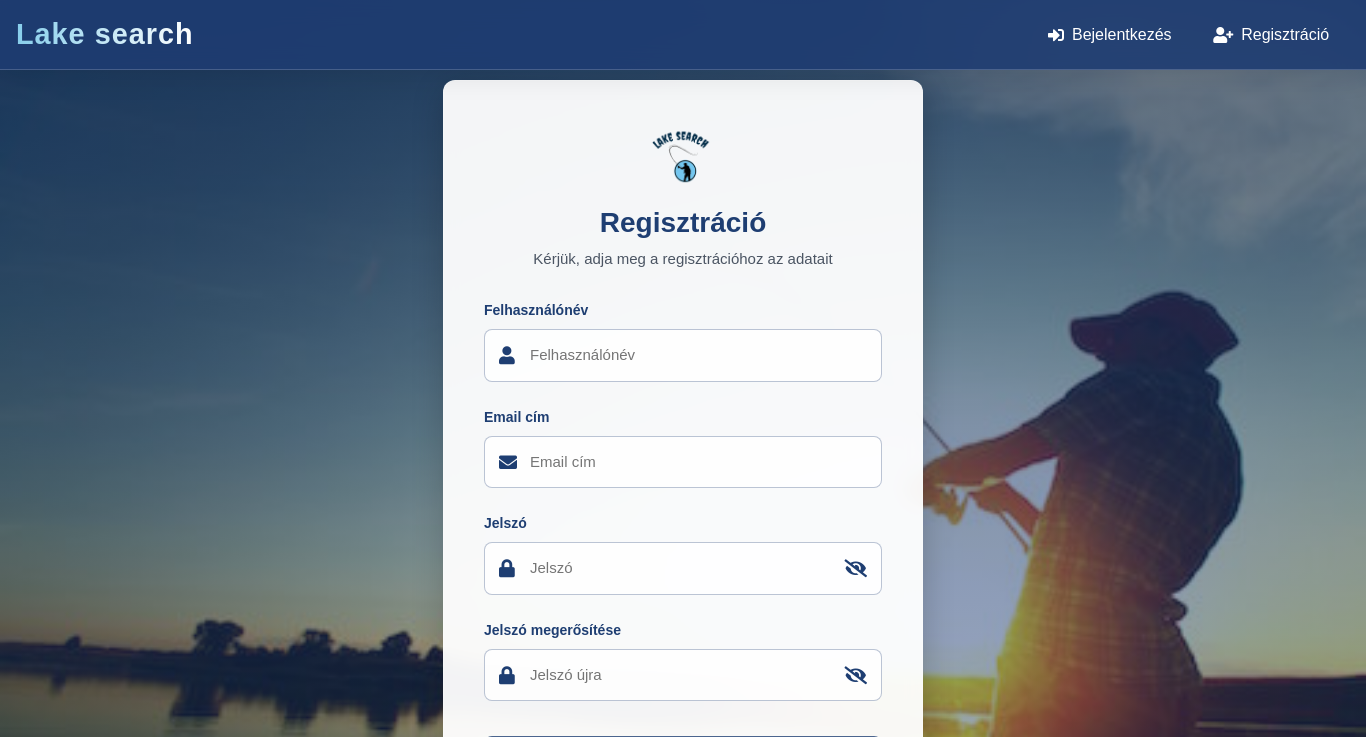
Test case: Regisztrációs űrlap teszt › Jelszó láthatóságának váltása működik
Type "Jelszo123" into the password field with placeholder "Jelszó" at (683, 569), box x1=484 y1=542 x2=882 y2=595
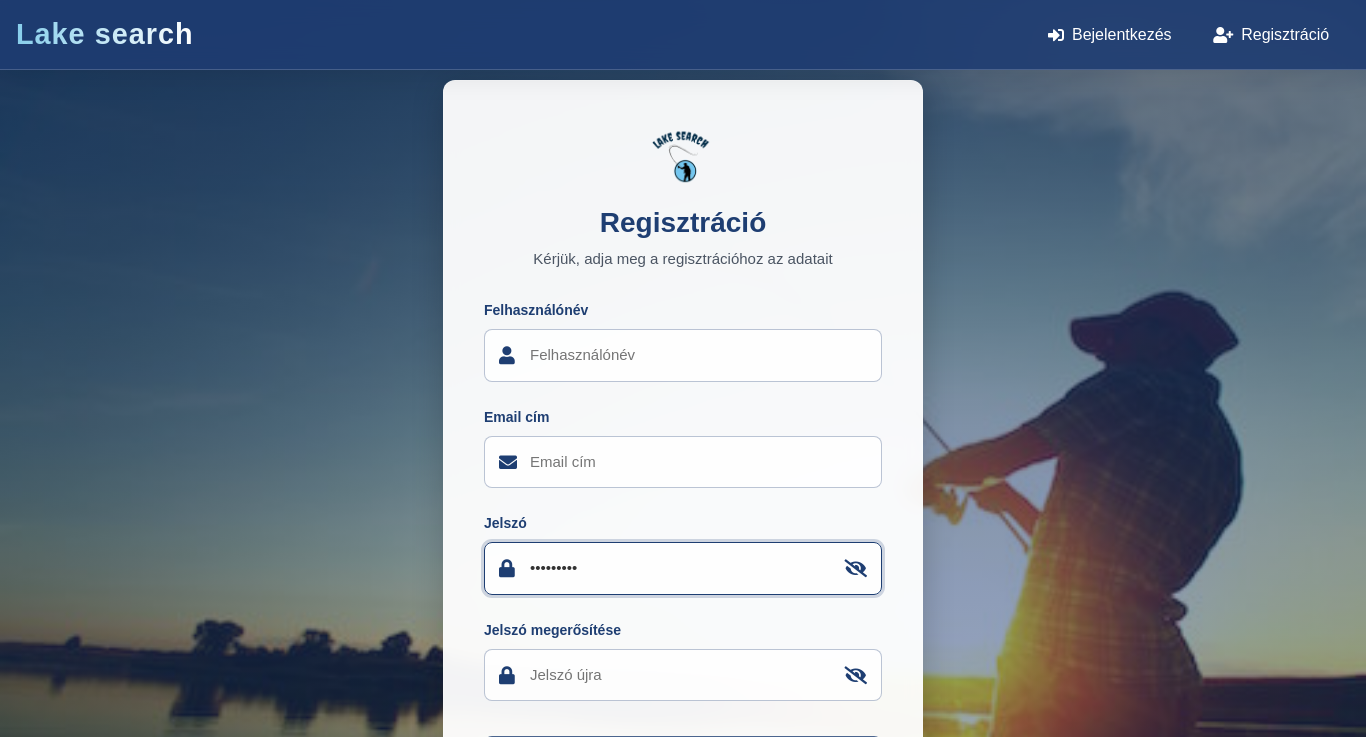
Click the 6th icon at (857, 568), box x1=845 y1=559 x2=868 y2=577
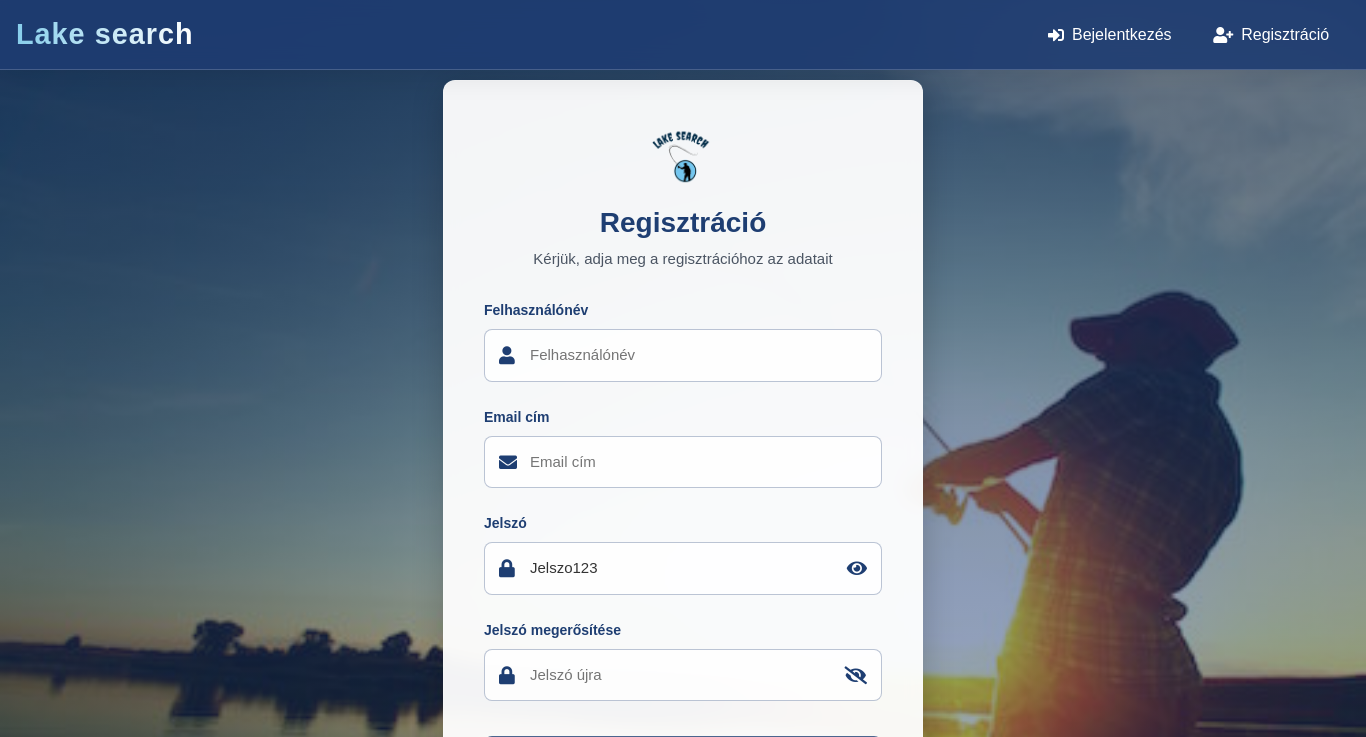
Expected: the field with placeholder "Jelszó" shows its text, x1=484 y1=542 x2=882 y2=595
Click the 6th icon at (857, 568), box x1=847 y1=559 x2=867 y2=577
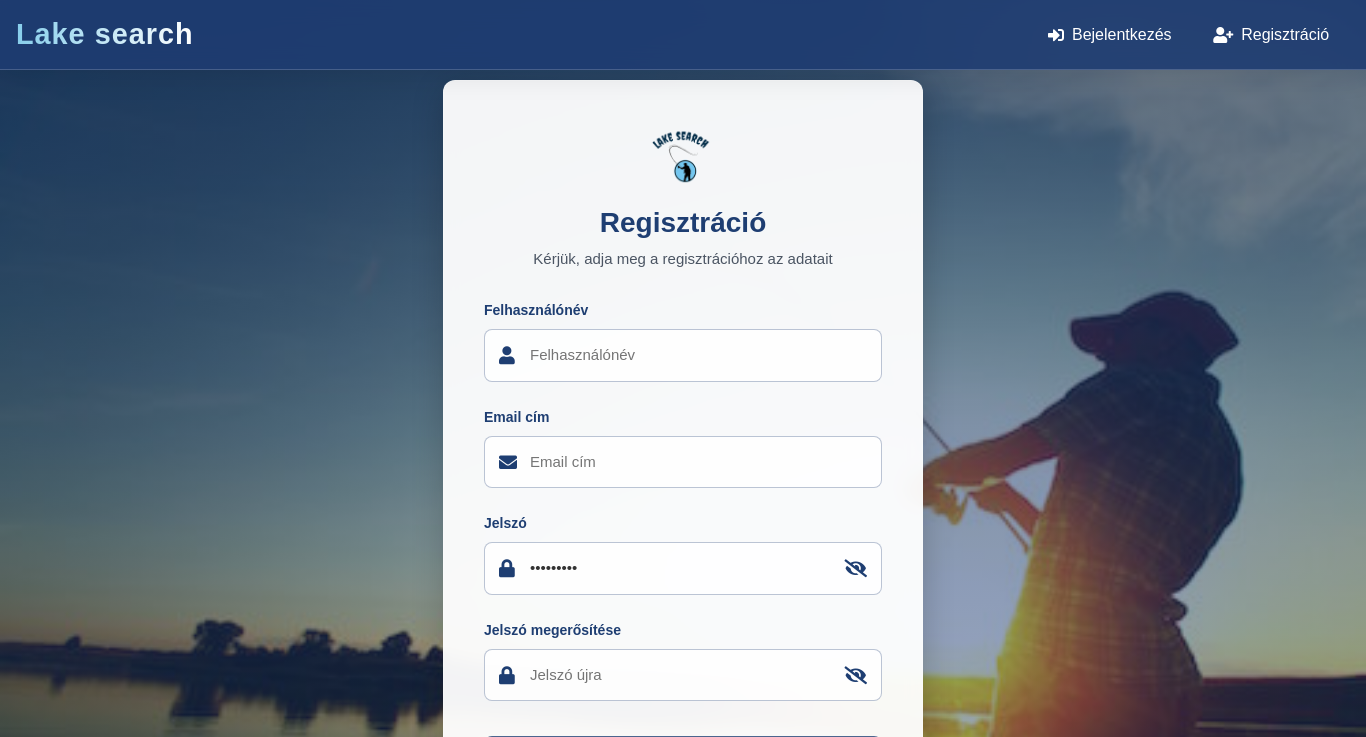
Expected: the password field with placeholder "Jelszó" hides its text, x1=484 y1=542 x2=882 y2=595
